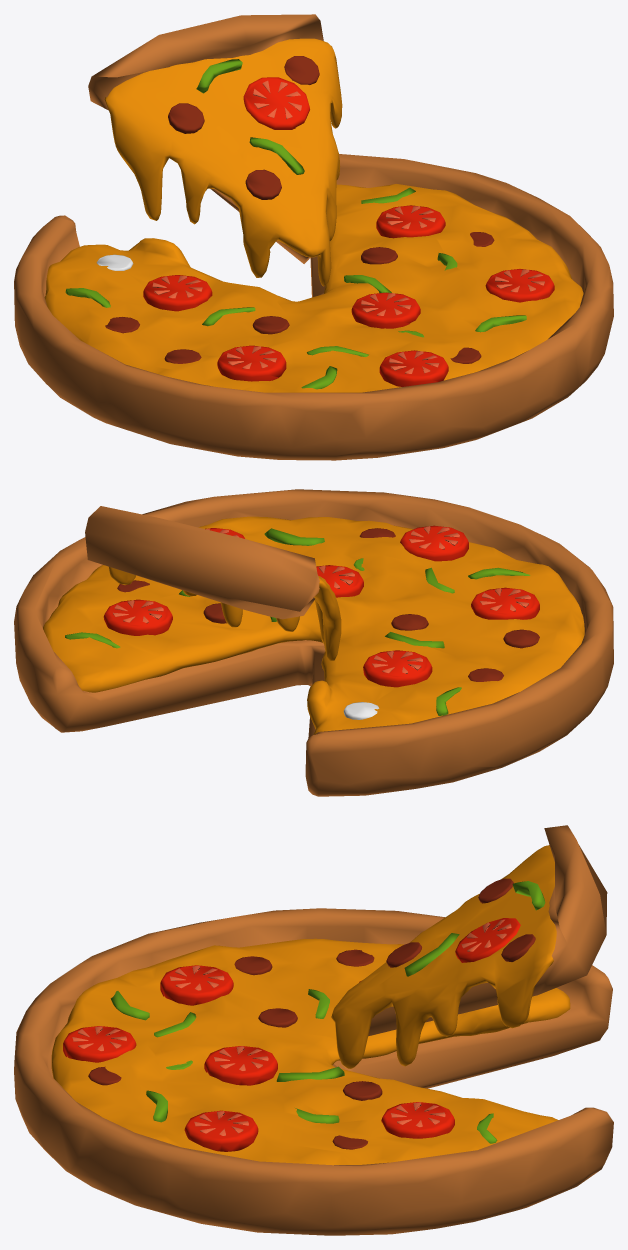
File: pizza.glb
3 renders of one model, top to bottom at view 1: azimuth 30°, elevation 25°; view 2: azimuth 150°, elevation 25°; view 3: azimuth 270°, elevation 25°, orthographic. The views are drawn at different scales.
Visible parts, largest first — view 1: Circle.020, Plane.075, Plane.076, Plane.074, Cylinder.111, Cylinder.107, Cylinder.110, Cylinder.108, Cylinder.106, Cylinder.105, Cylinder.109, Cylinder.121 (+4 smaller); view 2: Circle.020, Plane.075, Plane.074, Plane.076, Cylinder.106, Cylinder.105, Cylinder.110, Cylinder.107, Cylinder.108, Cube.464, Cylinder.119, Cylinder.112 (+1 smaller); view 3: Circle.020, Plane.075, Plane.076, Plane.074, Cylinder.109, Cylinder.108, Cylinder.107, Cylinder.105, Cylinder.110, Cylinder.111, Cylinder.116, Cylinder.112 (+6 smaller).
Part boxes in pixels (bbox=[...]): Circle.020: bbox=[14, 154, 613, 460]; Plane.075: bbox=[44, 184, 583, 392]; Plane.076: bbox=[104, 38, 342, 286]; Plane.074: bbox=[88, 14, 323, 263]; Cylinder.111: bbox=[243, 77, 309, 129]; Cylinder.107: bbox=[217, 345, 286, 381]; Cylinder.110: bbox=[379, 350, 448, 386]; Cylinder.108: bbox=[351, 292, 420, 328]; Cylinder.106: bbox=[143, 275, 212, 311]; Cylinder.105: bbox=[376, 205, 445, 238]; Cylinder.109: bbox=[485, 269, 554, 302]; Cylinder.121: bbox=[168, 103, 204, 133]; Circle.020: bbox=[14, 489, 613, 796]; Plane.075: bbox=[43, 516, 584, 734]; Plane.074: bbox=[85, 506, 319, 619]; Plane.076: bbox=[108, 566, 341, 660]; Cylinder.106: bbox=[363, 650, 432, 687]; Cylinder.105: bbox=[103, 599, 172, 635]; Cylinder.110: bbox=[400, 525, 468, 561]; Cylinder.107: bbox=[471, 587, 539, 619]; Cylinder.108: bbox=[316, 565, 363, 597]; Cube.464: bbox=[264, 528, 324, 545]; Cylinder.119: bbox=[503, 629, 539, 648]; Cylinder.112: bbox=[391, 614, 428, 630]; Circle.020: bbox=[14, 908, 613, 1235]; Plane.075: bbox=[51, 938, 570, 1165]; Plane.076: bbox=[331, 845, 556, 1068]; Plane.074: bbox=[368, 825, 607, 1036]; Cylinder.109: bbox=[184, 1110, 258, 1151]; Cylinder.108: bbox=[204, 1046, 277, 1085]; Cylinder.107: bbox=[160, 965, 233, 1005]; Cylinder.105: bbox=[381, 1102, 454, 1138]; Cylinder.110: bbox=[63, 1026, 136, 1062]; Cylinder.111: bbox=[455, 918, 520, 962]; Cylinder.116: bbox=[343, 1081, 382, 1100]; Cylinder.112: bbox=[258, 1008, 297, 1027].
Size of the model in its own units: 2.12 by 0.9215 by 1.99.
